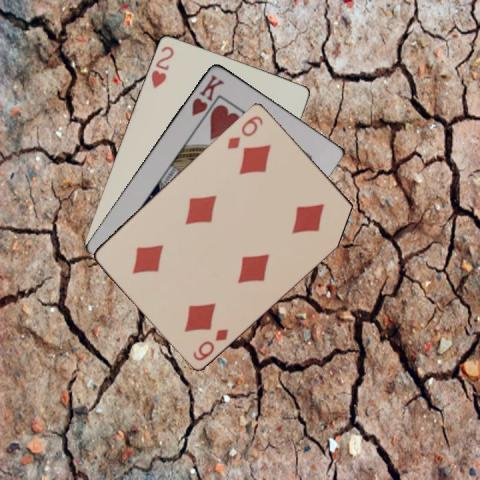2h: (148, 43, 175, 89)
6d: (224, 112, 265, 151), (189, 325, 230, 362)
Kh: (189, 72, 225, 118)
